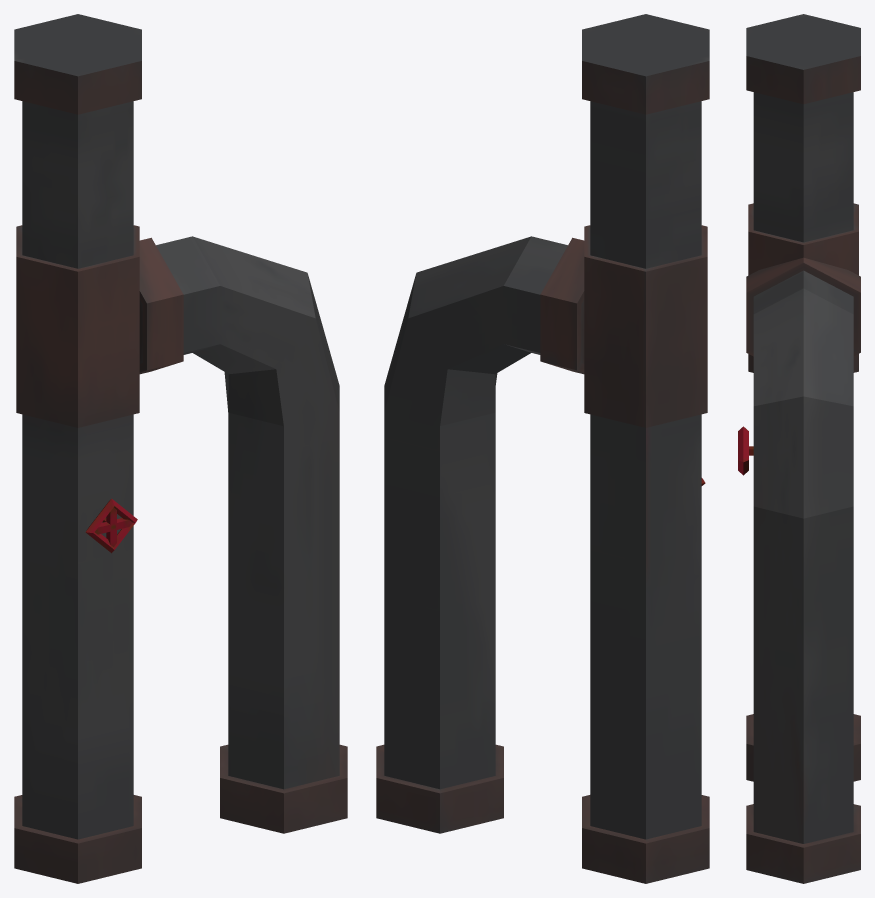
The model's file is Pipe.fbx.
The picture shows the model from 3 angles, left to right: view 1: azimuth 30°, elevation 25°; view 2: azimuth 150°, elevation 25°; view 3: azimuth 270°, elevation 25°; orthographic projection. The views are drawn at different scales.
Parts seen in each view (by area): view 1: Cylinder, Cylinder.001, Torus.001; view 2: Cylinder, Cylinder.001; view 3: Cylinder.001, Cylinder, Torus.001.
Part boxes in pixels (x1,y1,x2,y2): Cylinder: [14, 14, 141, 883]; Cylinder.001: [139, 236, 347, 833]; Torus.001: [85, 498, 137, 553]; Cylinder: [582, 14, 709, 883]; Cylinder.001: [376, 236, 584, 833]; Cylinder.001: [746, 257, 860, 883]; Cylinder: [746, 14, 860, 781]; Torus.001: [738, 426, 748, 475].
Size of the model in its own units: 130 by 300 by 46.15.
